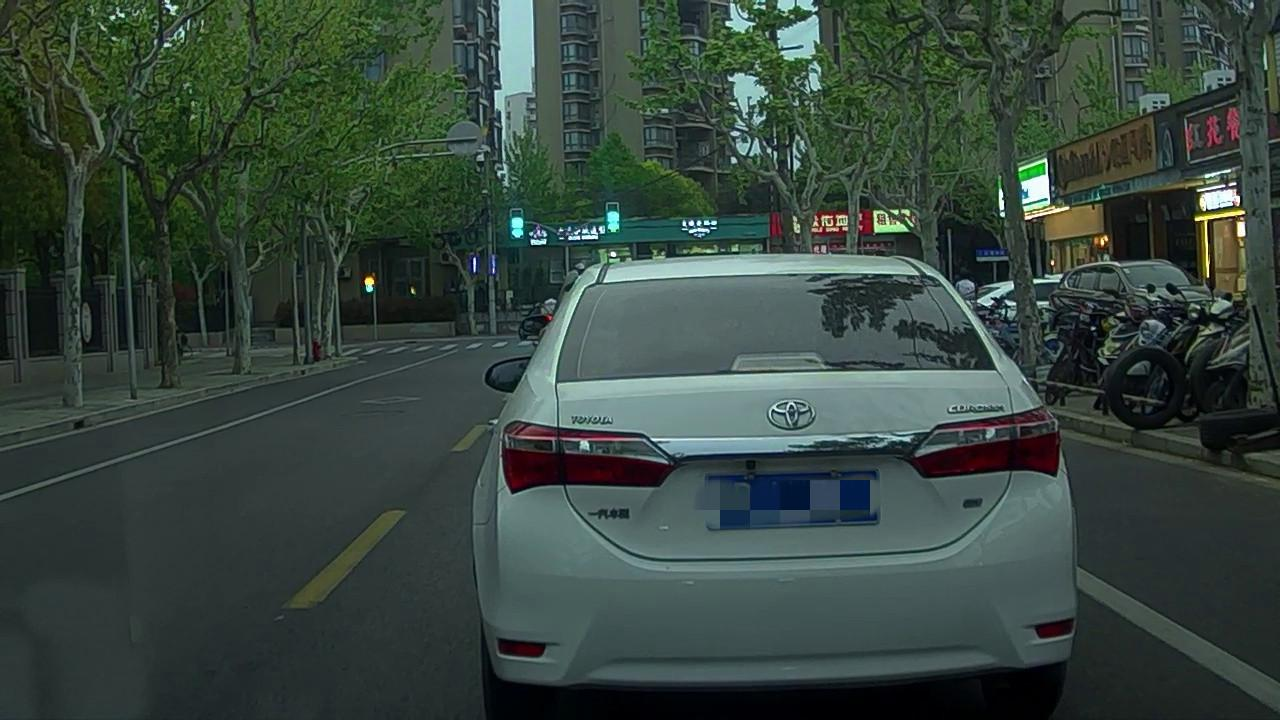traffic_light: (607, 202, 620, 236), (512, 209, 523, 239)
